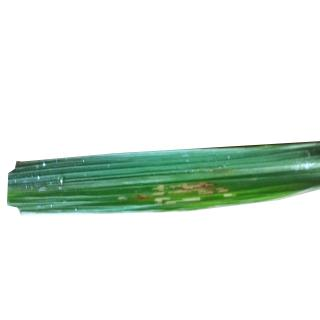Hawar-Daun: (132, 172, 230, 206)
